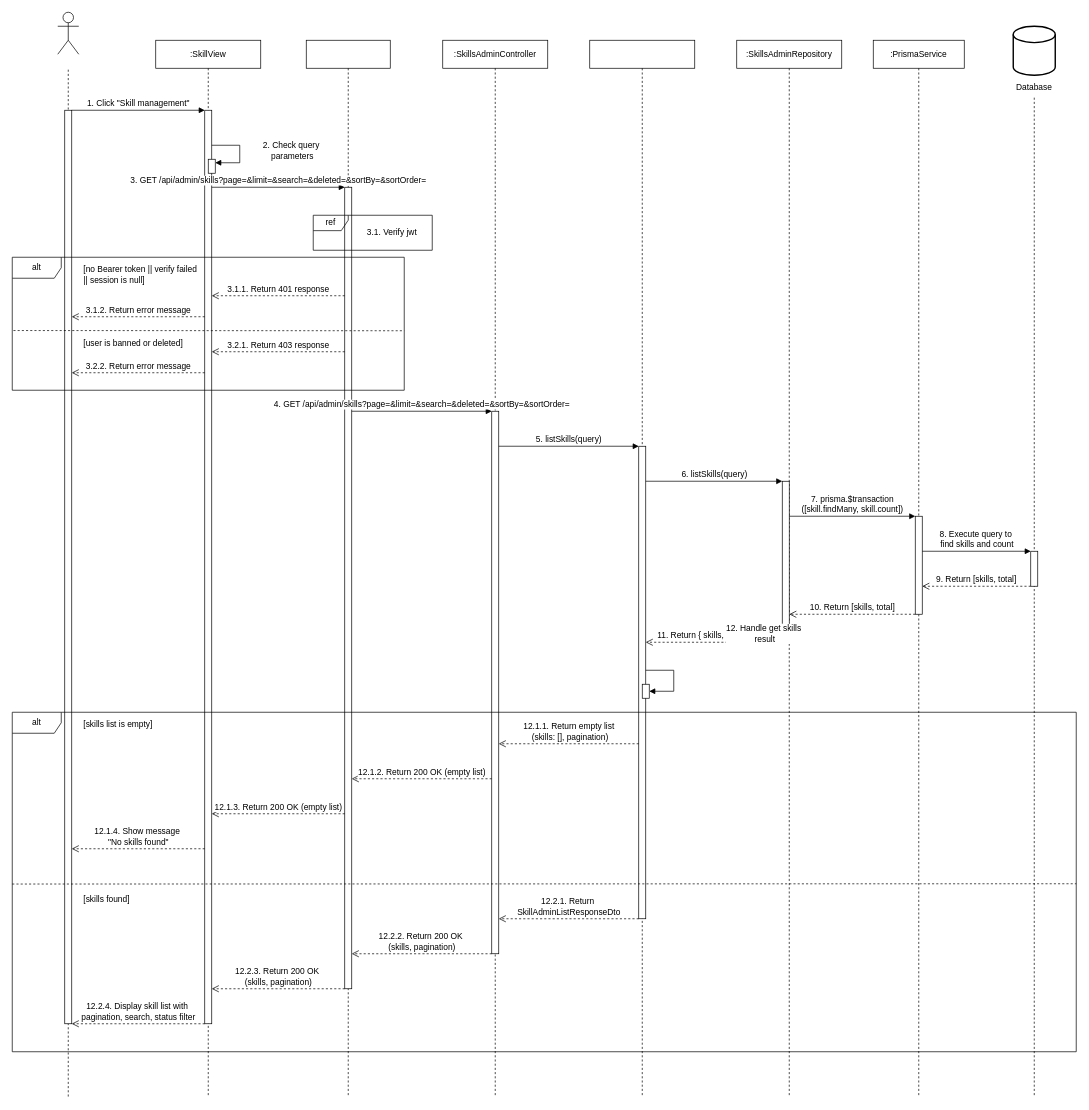
The diagram is 1089 pixels wide and 1110 high, and some of its shapes have lost their labels. Here are the shapes that lost their labels. From the top down, the box of each, then its label:
(57, 12, 79, 54): Admin
(306, 40, 390, 1097): :SkillRoute
(589, 40, 695, 1097): :SkillsAdminService
